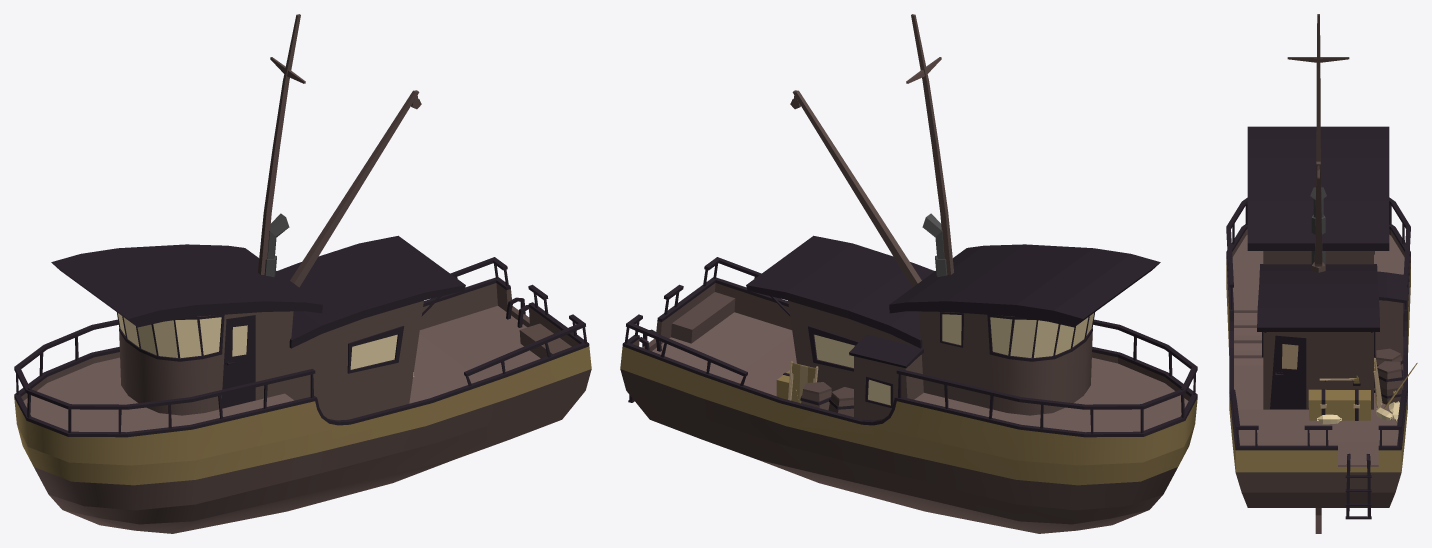
The model's file is EmptyBoat1_a4_GD.glb.
3 views of the same model, side by side, from view 1: azimuth 30°, elevation 25°; view 2: azimuth 150°, elevation 25°; view 3: azimuth 270°, elevation 25° (orthographic). The views are drawn at different scales.
Parts seen in each view (by area): view 1: Boat_Body, Boat_Door1; view 2: Boat_Body, BeachChairFolded2, Barrel; view 3: Boat_Body, Boat_Door2, Chest, Barrel, BowLadder, Buoy3, Barrel.001, BeachChairFolded2.
Boxes of the visible parts, x1,y1,x2,y2 form: Boat_Body: (14,14,591,533); Boat_Door1: (221,315,255,408); Boat_Body: (620,14,1197,533); BeachChairFolded2: (788,361,818,403); Barrel: (800,382,831,410); Boat_Body: (1226,14,1410,533); Boat_Door2: (1270,335,1306,409); Chest: (1308,389,1370,420); Barrel: (1374,361,1403,404); BowLadder: (1345,453,1371,519); Buoy3: (1317,401,1399,424); Barrel.001: (1374,348,1403,379); BeachChairFolded2: (1373,358,1382,408).
Size of the model in its own units: 18.07 by 15.69 by 6.22.
